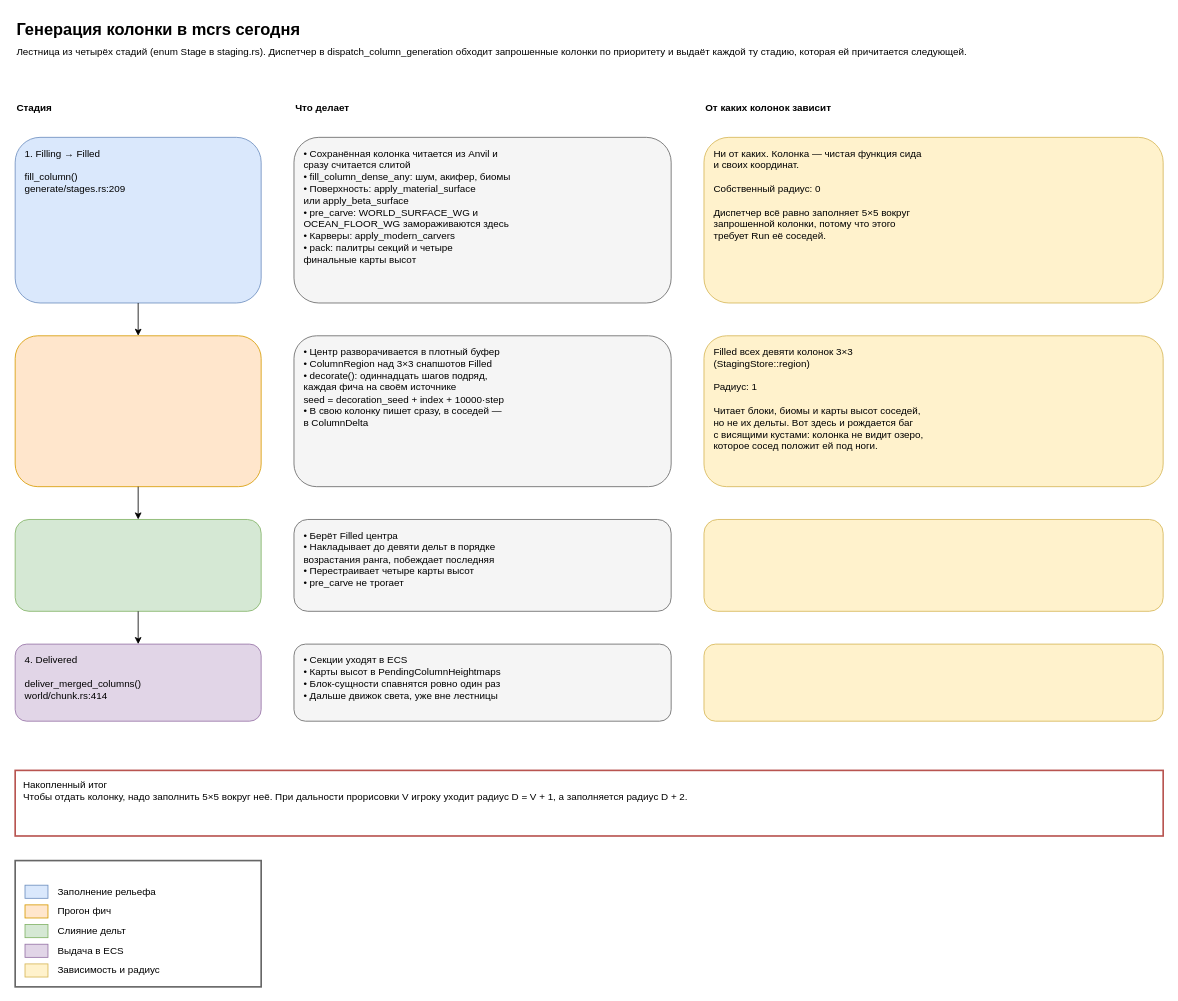
Image size: 1178x1001. Some labels were removed from this diagram. The box of each missing label's shape, as (x1, y1, x2, y2) in pixels:
2. Running → Ran run_region() → run_column() generate/stages.rs:754: (14, 335, 261, 487)
3. Merging → Merged merge_column() generate/stages.rs:705: (14, 519, 261, 611)
Merged самой колонки Радиус: 0: (703, 643, 1163, 721)
Ran всех девяти колонок 3×3 (StagingStore::neighbourhood_reached) Радиус: 1: (703, 519, 1163, 611)
Обозначения: (14, 859, 262, 987)
